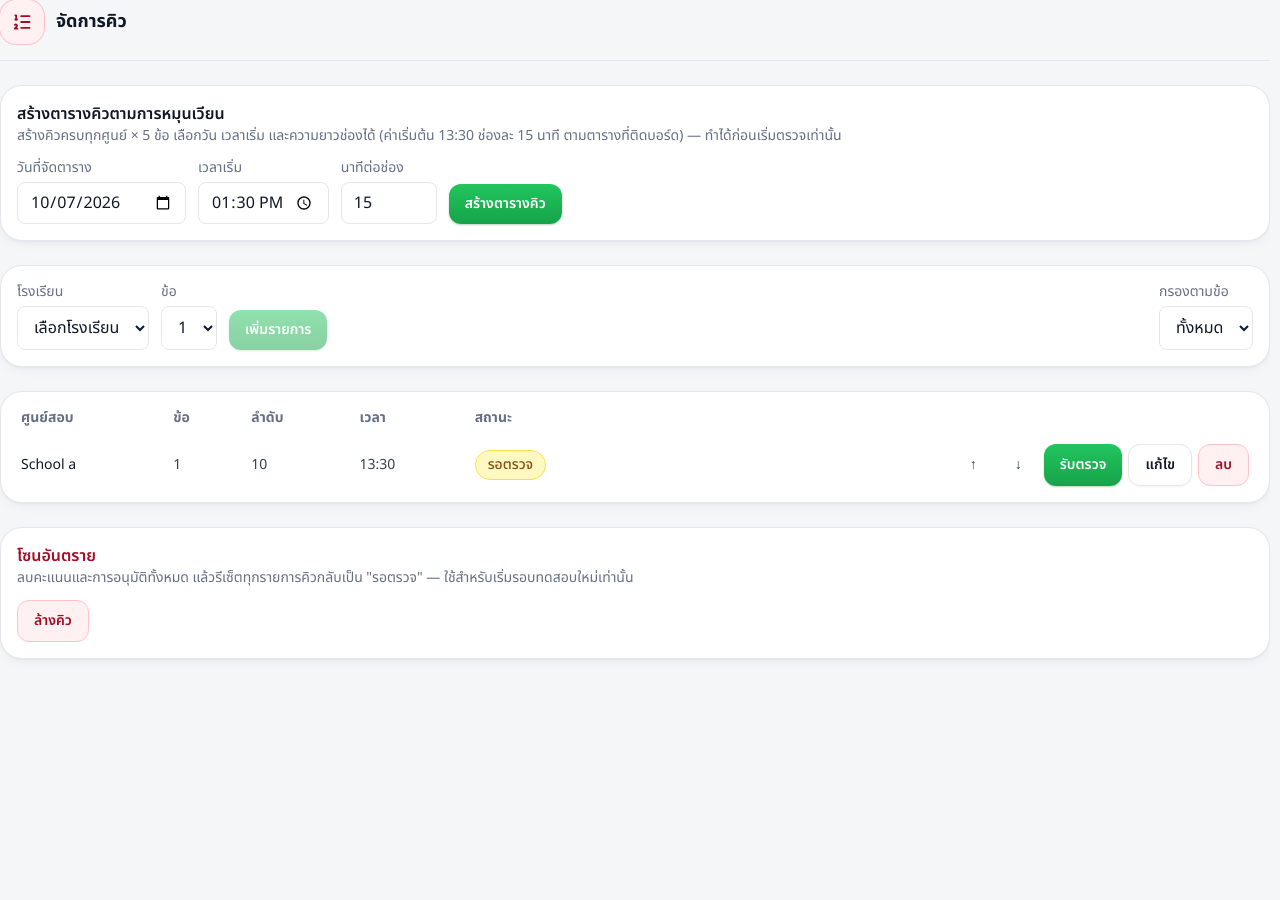
Test: Admin queue page: full edit (school/problem/time) via confirm modal › pre-fills the current school/problem/time, shows a confirm dialog, then patches everything and shows a success message
Click the button "แก้ไข". click: (1160, 465)
box: [1128,444,1192,486]
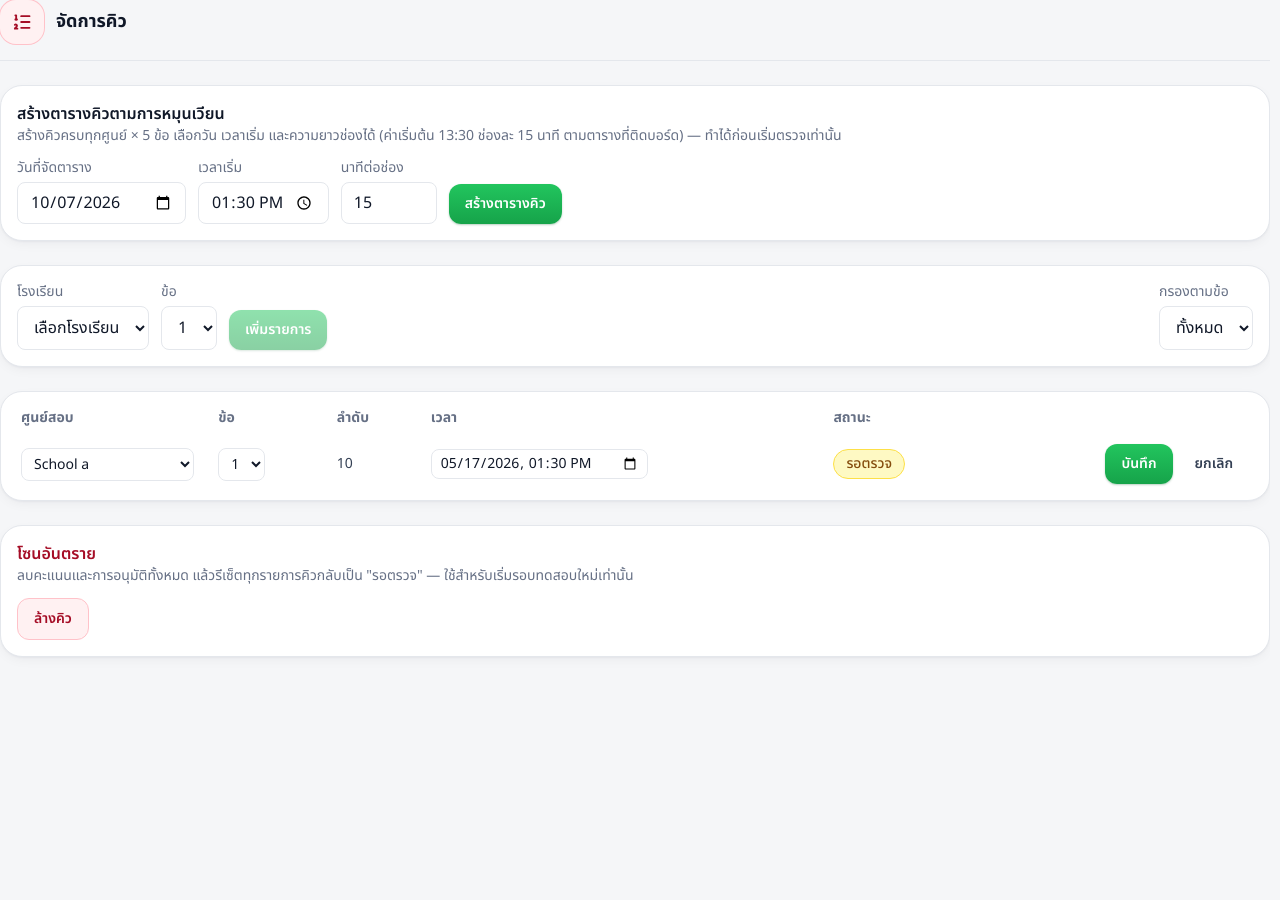
Expected: the dropdown named "โรงเรียน" shows "School a"
Expected: the dropdown named "ข้อ" shows "1", [218,448,265,480]
Select "School b" in the dropdown named "โรงเรียน". click: (108, 464)
box: [21,448,194,480]
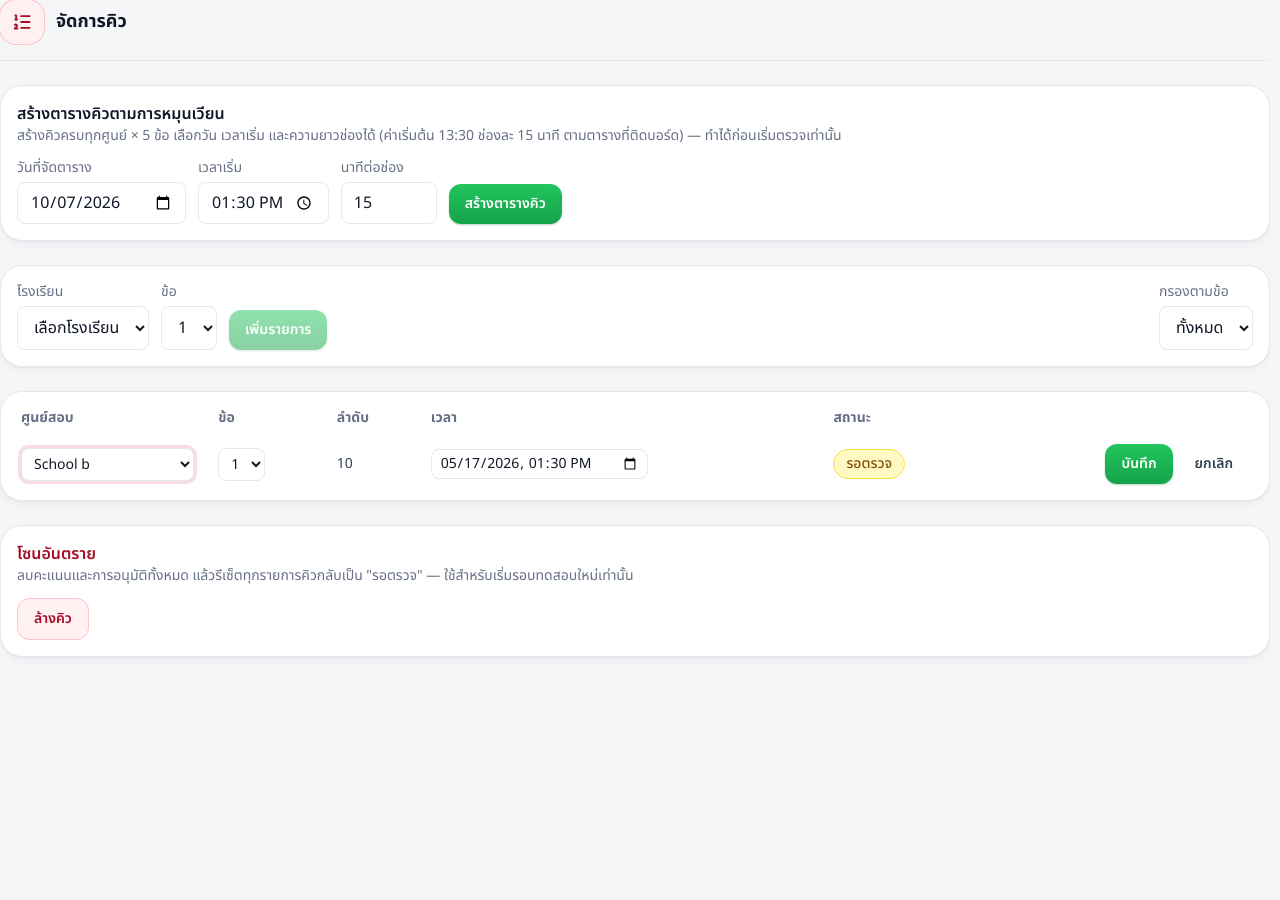
Select "2" in the dropdown named "ข้อ". click: (242, 464)
box: [218,448,265,480]
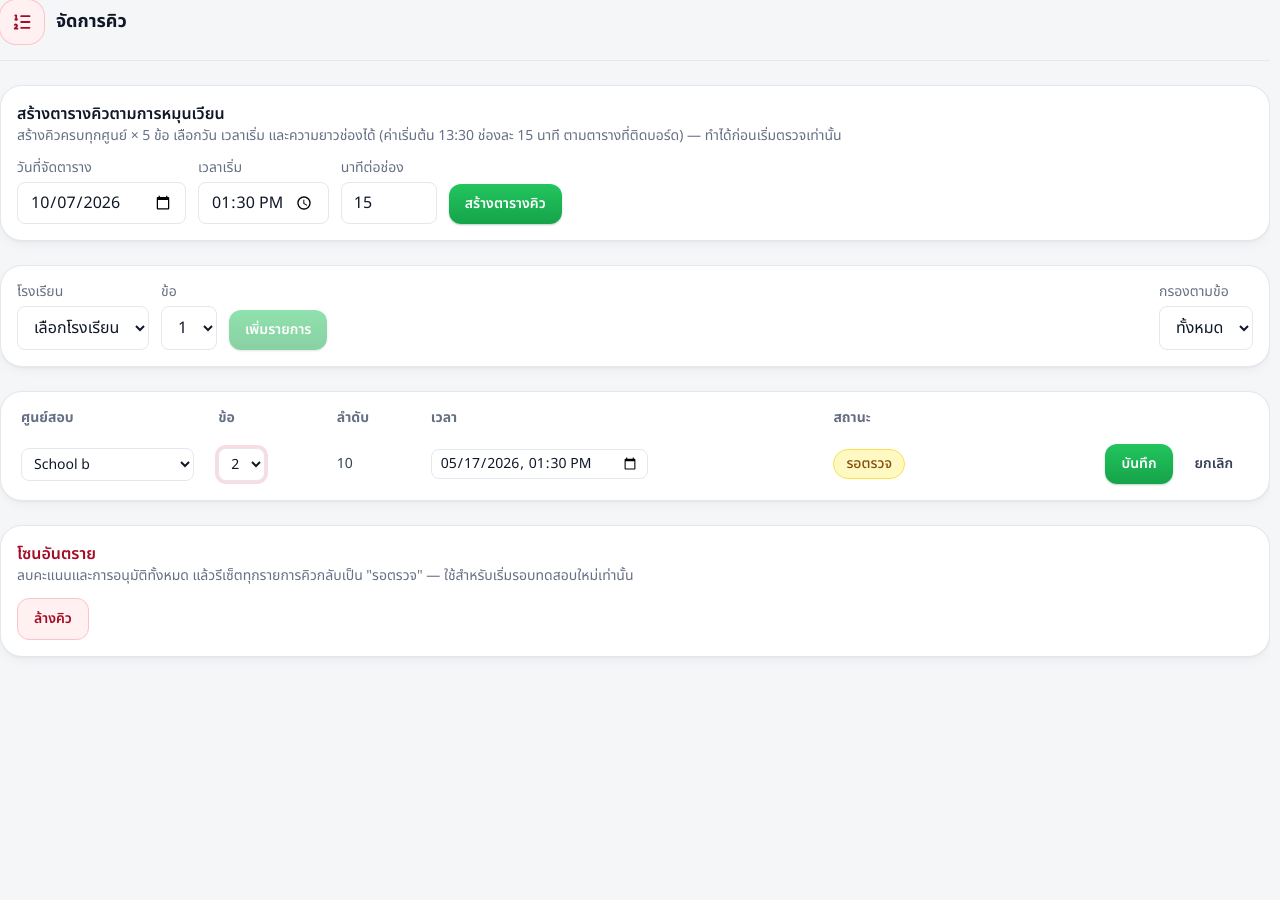
Click the button "บันทึก". click: (1139, 464)
box: [1106,444,1172,484]
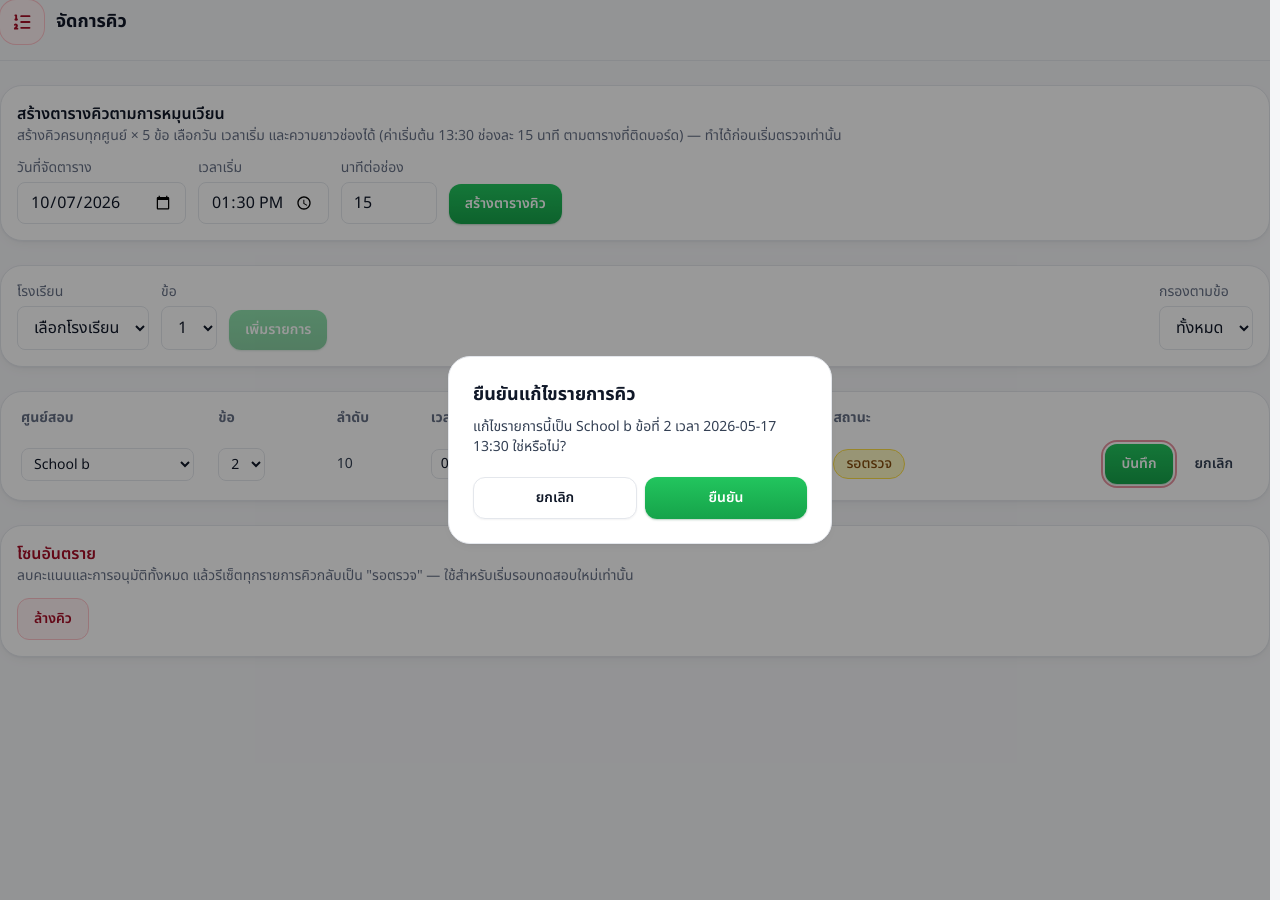
Expected: the text "School b ข้อที่ 2 เวลา 2026-05-17 13:30" is shown, [473,416,776,457]
Click the button "ยืนยัน". click: (726, 498)
box: [645,477,807,519]
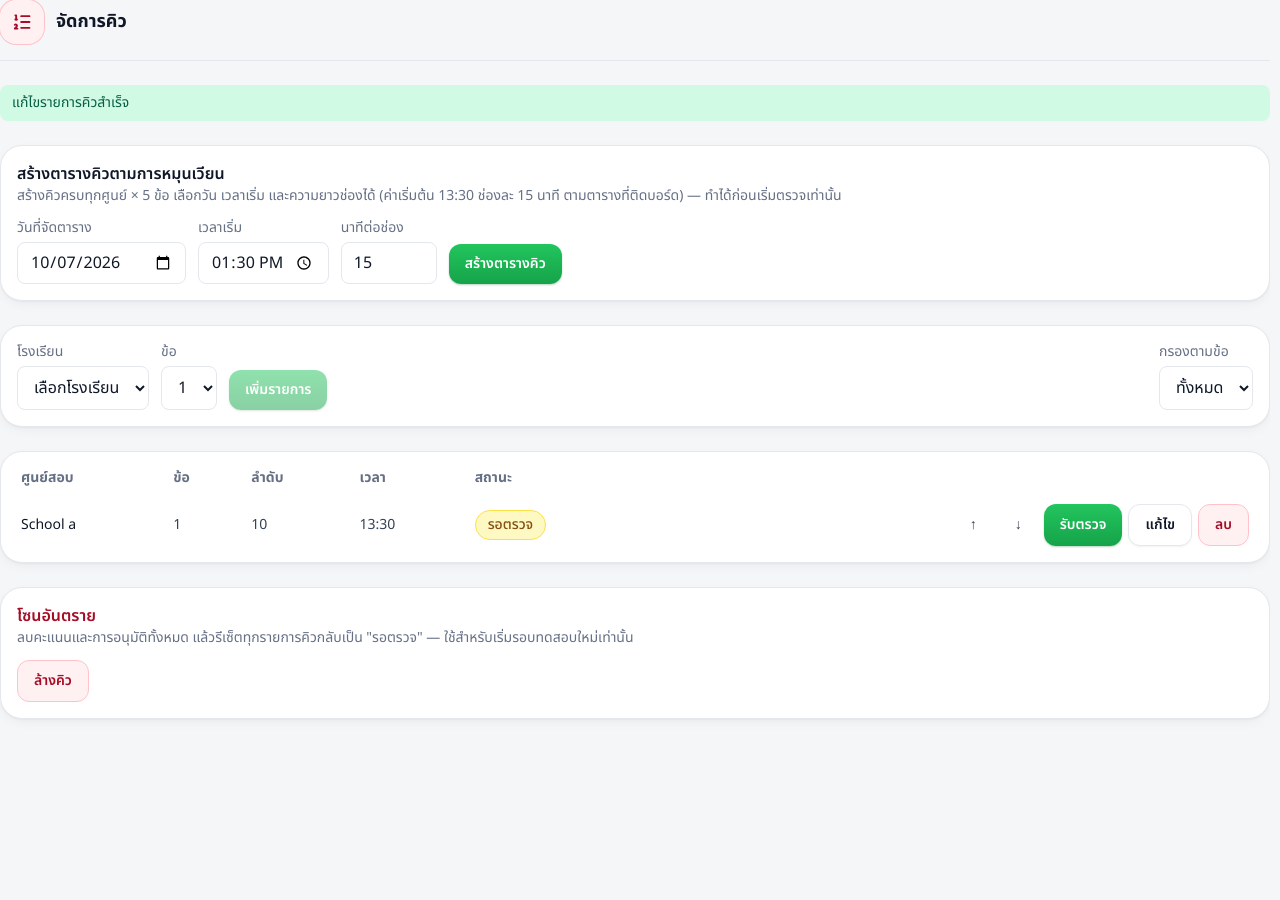
Expected: the text "แก้ไขรายการคิวสำเร็จ" is shown, [0,85,1270,121]
